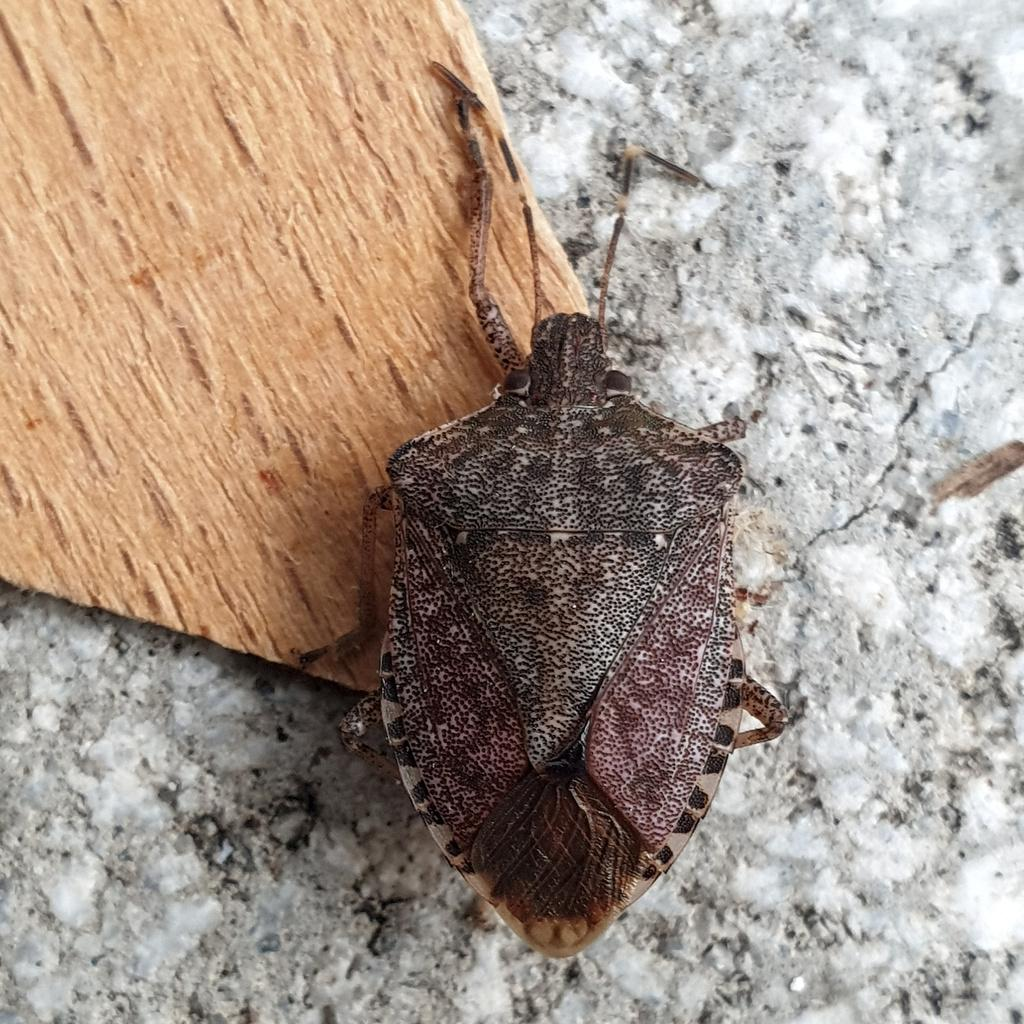stink_bugs: (259, 0, 839, 1024)
